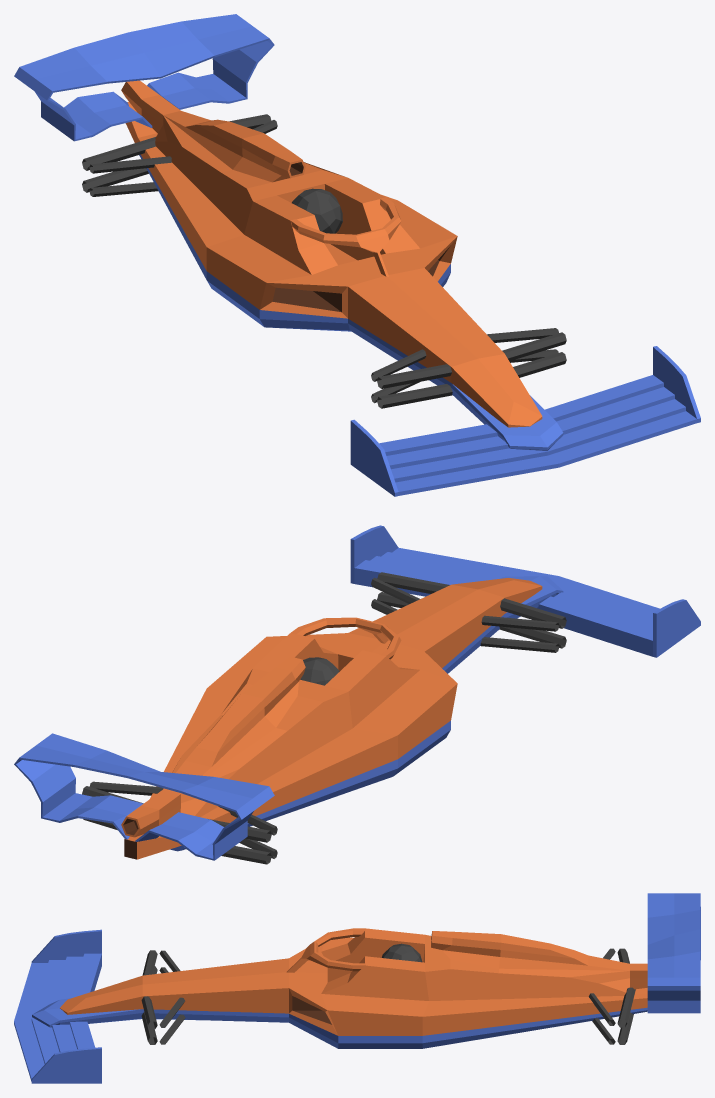
File: Car.gltf
3 views of the same model, one above another, from view 1: azimuth 30°, elevation 25°; view 2: azimuth 150°, elevation 25°; view 3: azimuth 270°, elevation 25° (orthographic). The views are drawn at different scales.
Visible parts, largest first — view 1: Body 03, Body 02, Front wing, Spoiler, Body 01, Axel Front, Axel Back, Torus, Helmet; view 2: Body 03, Body 02, Spoiler, Front wing, Axel Front, Body 01, Axel Back, Torus, Helmet; view 3: Body 03, Body 02, Front wing, Spoiler, Body 01, Axel Front, Axel Back, Torus, Helmet.
Part boxes in pixels (x1,y1,x2,y2): Body 03: (121, 80, 457, 282); Body 02: (125, 102, 542, 427); Front wing: (350, 346, 700, 496); Spoiler: (14, 14, 274, 141); Body 01: (139, 154, 563, 451); Axel Front: (371, 328, 566, 408); Axel Back: (82, 114, 277, 196); Torus: (290, 197, 401, 276); Helmet: (292, 188, 342, 233); Body 03: (121, 633, 457, 837); Body 02: (124, 578, 542, 859); Spoiler: (14, 733, 274, 860); Front wing: (350, 525, 700, 657); Axel Front: (371, 572, 566, 652); Body 01: (170, 576, 563, 851); Axel Back: (82, 781, 277, 864); Torus: (291, 617, 401, 659); Helmet: (300, 657, 339, 685); Body 03: (321, 928, 647, 1016); Body 02: (60, 944, 647, 1035); Front wing: (14, 929, 101, 1083); Spoiler: (647, 893, 700, 1013); Body 01: (32, 998, 647, 1048); Axel Front: (141, 950, 185, 1044); Axel Back: (588, 948, 635, 1044); Torus: (286, 928, 365, 972); Helmet: (382, 943, 422, 962).
Size of the model in its own units: 8 by 2.99 by 19.52.
